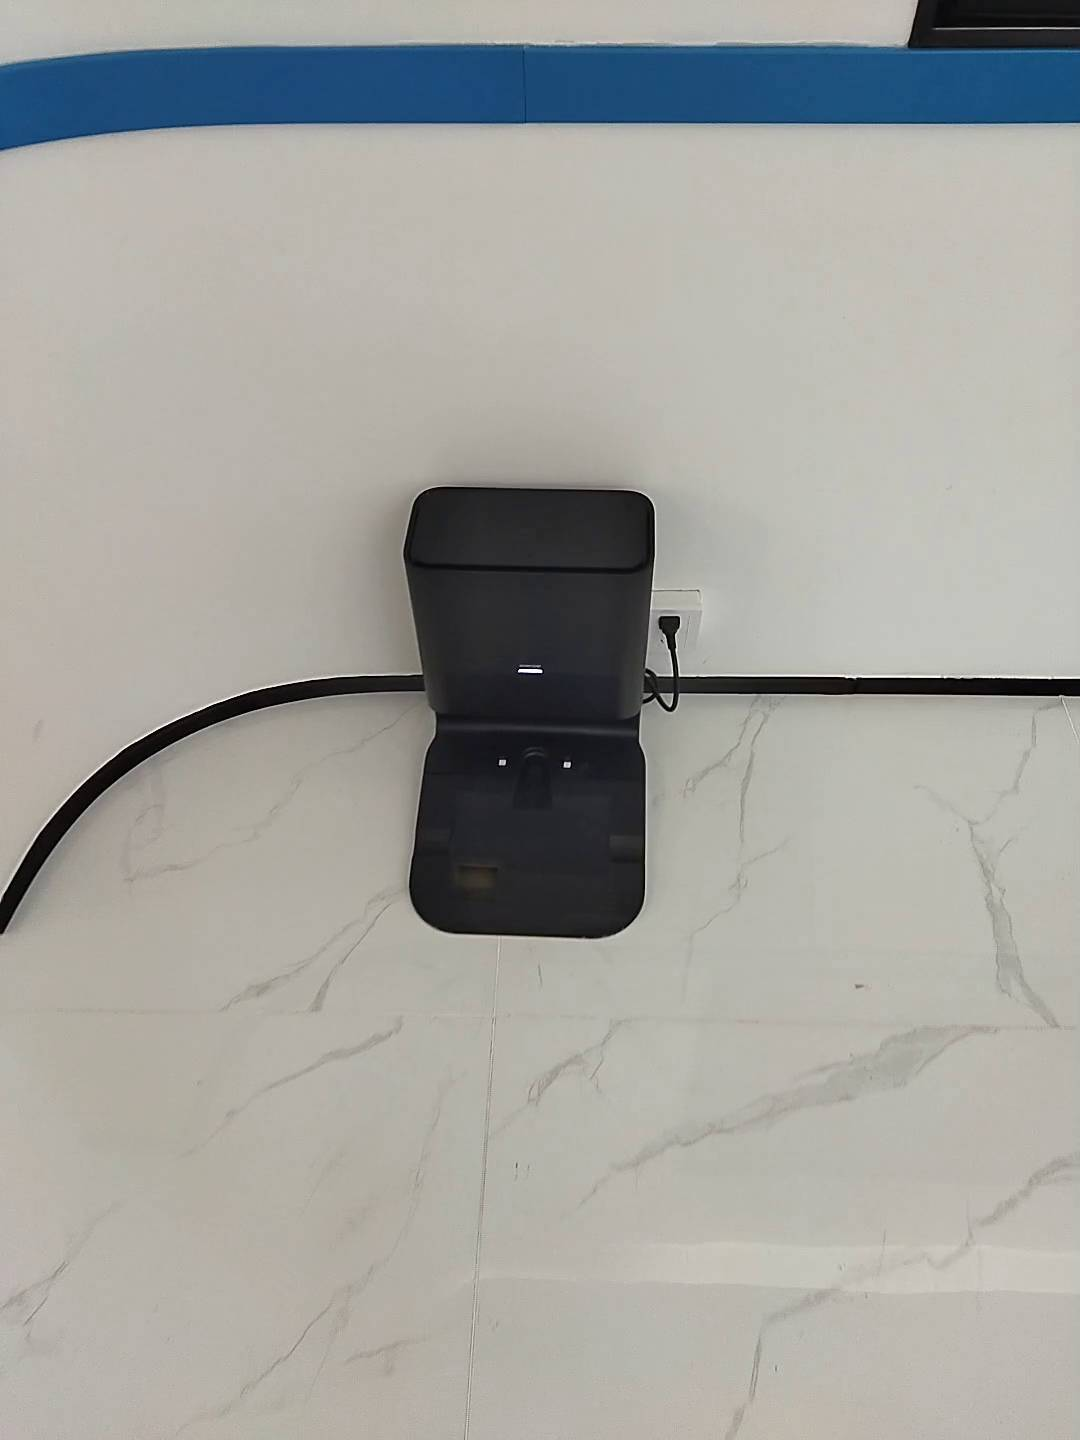dust collecting barrel: (400, 486, 657, 938)
